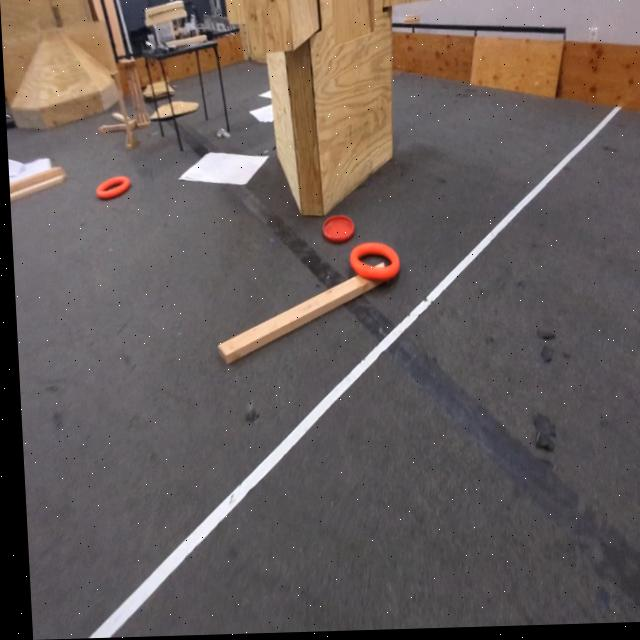note: (345, 245, 397, 285), (93, 174, 129, 202)
